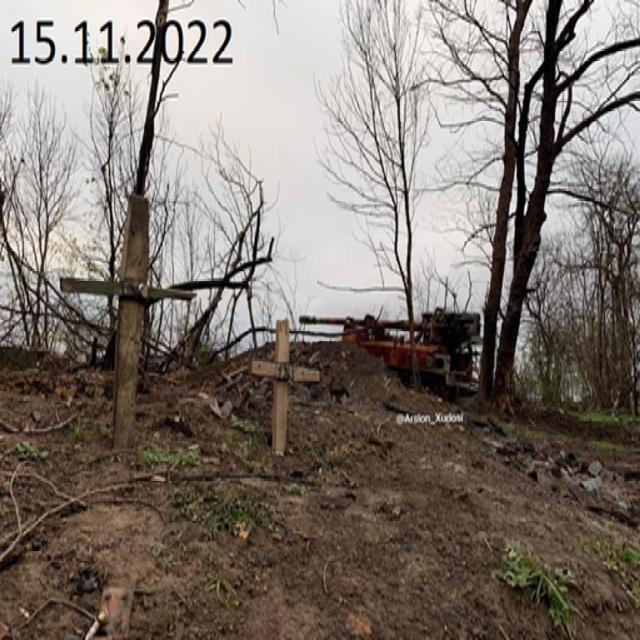ART: (291, 302, 494, 422)
